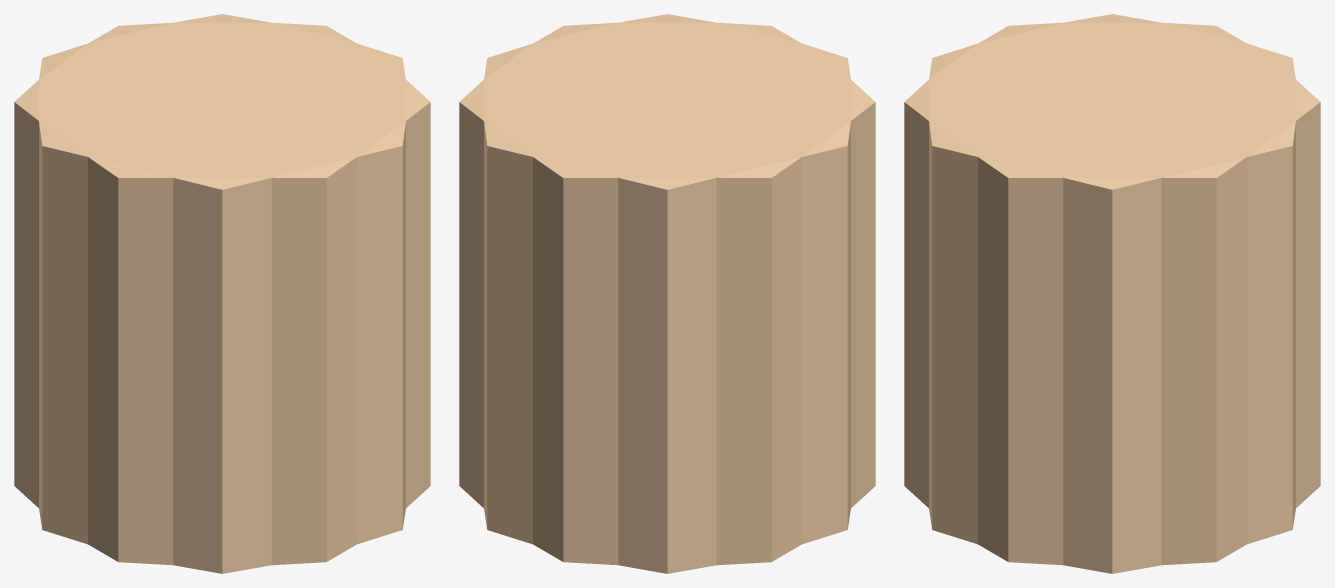
Rendered from small-column.fbx.
3 renders of one model, left to right at view 1: azimuth 30°, elevation 25°; view 2: azimuth 150°, elevation 25°; view 3: azimuth 270°, elevation 25°, orthographic.
Visible parts, largest first — view 1: small-column; view 2: small-column; view 3: small-column.
Part boxes in pixels (bbox=[...]): small-column: bbox=[14, 14, 430, 573]; small-column: bbox=[459, 14, 875, 573]; small-column: bbox=[904, 14, 1320, 573].
Size of the model in its own units: 54.78 by 56.26 by 54.78.
Materials: 1 (1 with a texture image).
